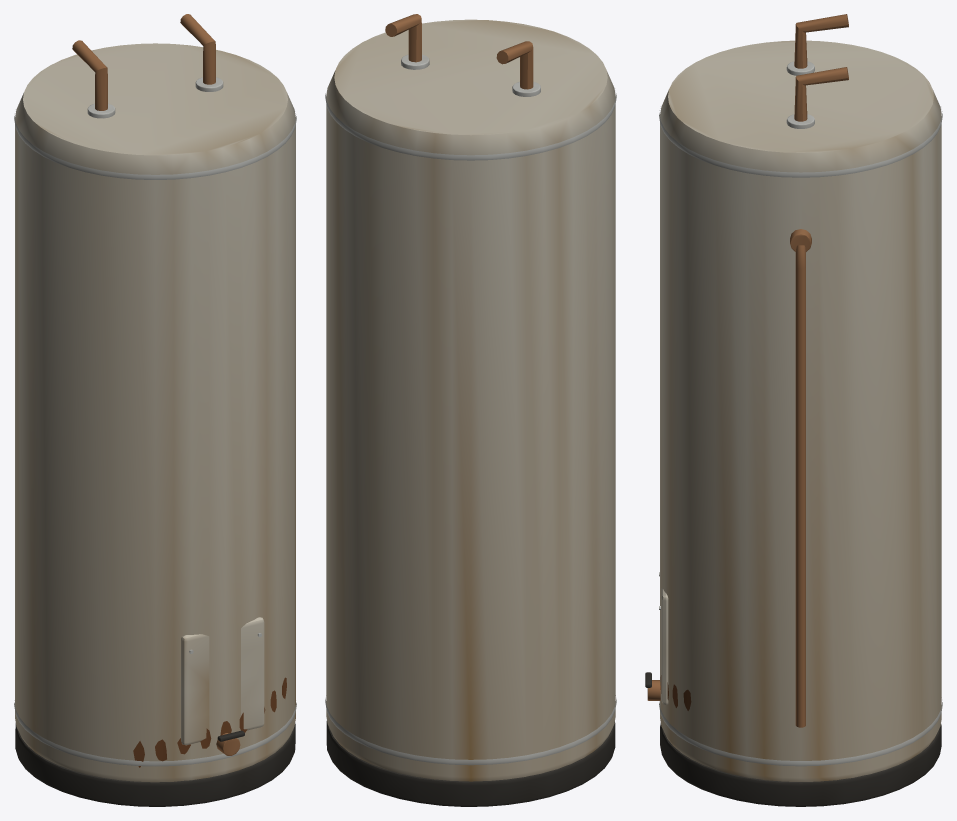
The model's file is water_heater.glb.
The picture shows the model from 3 angles, left to right: view 1: azimuth 30°, elevation 25°; view 2: azimuth 150°, elevation 25°; view 3: azimuth 270°, elevation 25°; orthographic projection. The views are drawn at different scales.
Parts seen in each view (by area): view 1: water_heater_metal; view 2: water_heater_metal; view 3: water_heater_metal.
Part boxes in pixels (box(x1,y1,x2,y2)): water_heater_metal: box(14, 14, 296, 806); water_heater_metal: box(325, 14, 616, 806); water_heater_metal: box(645, 14, 942, 806).
Bounding box in the file's own units: 0.5815 × 1.5 × 0.5706.
